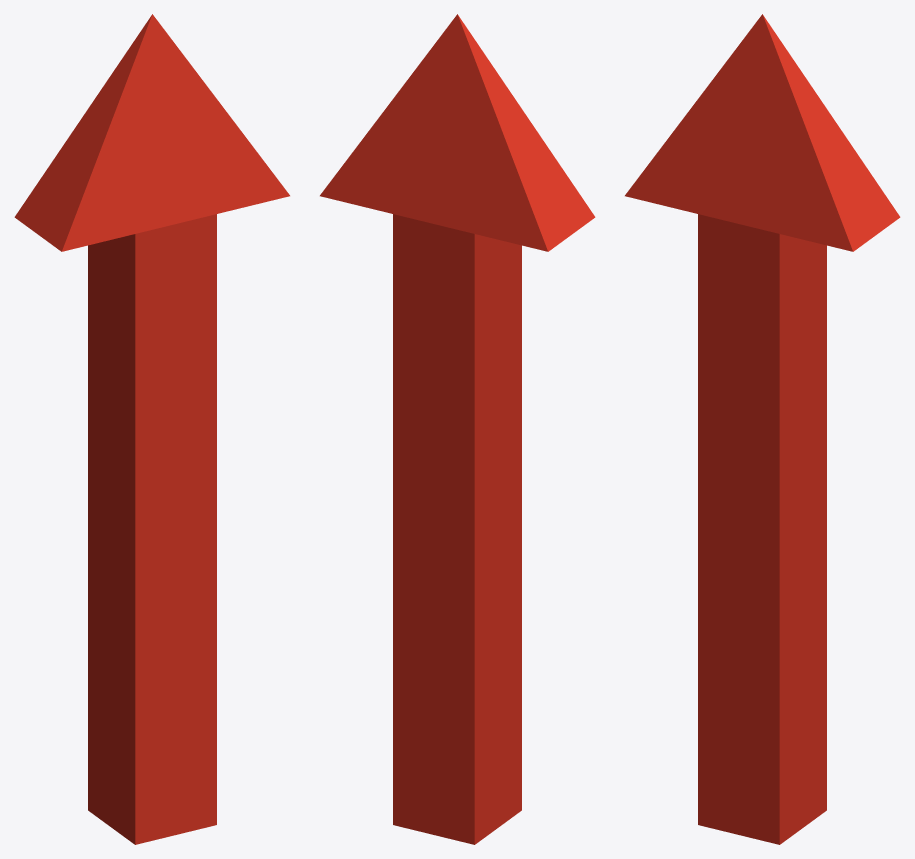
The model's file is arrow.fbx.
3 views of the same model, side by side, from view 1: azimuth 30°, elevation 25°; view 2: azimuth 150°, elevation 25°; view 3: azimuth 330°, elevation 25° (orthographic).
Parts seen in each view (by area): view 1: Cube; view 2: Cube; view 3: Cube.
Boxes of the visible parts, x1,y1,x2,y2 form: Cube: (14, 14, 289, 844); Cube: (320, 14, 595, 844); Cube: (625, 14, 900, 844).
Size of the model in its own units: 78.4 by 263 by 28.04.
